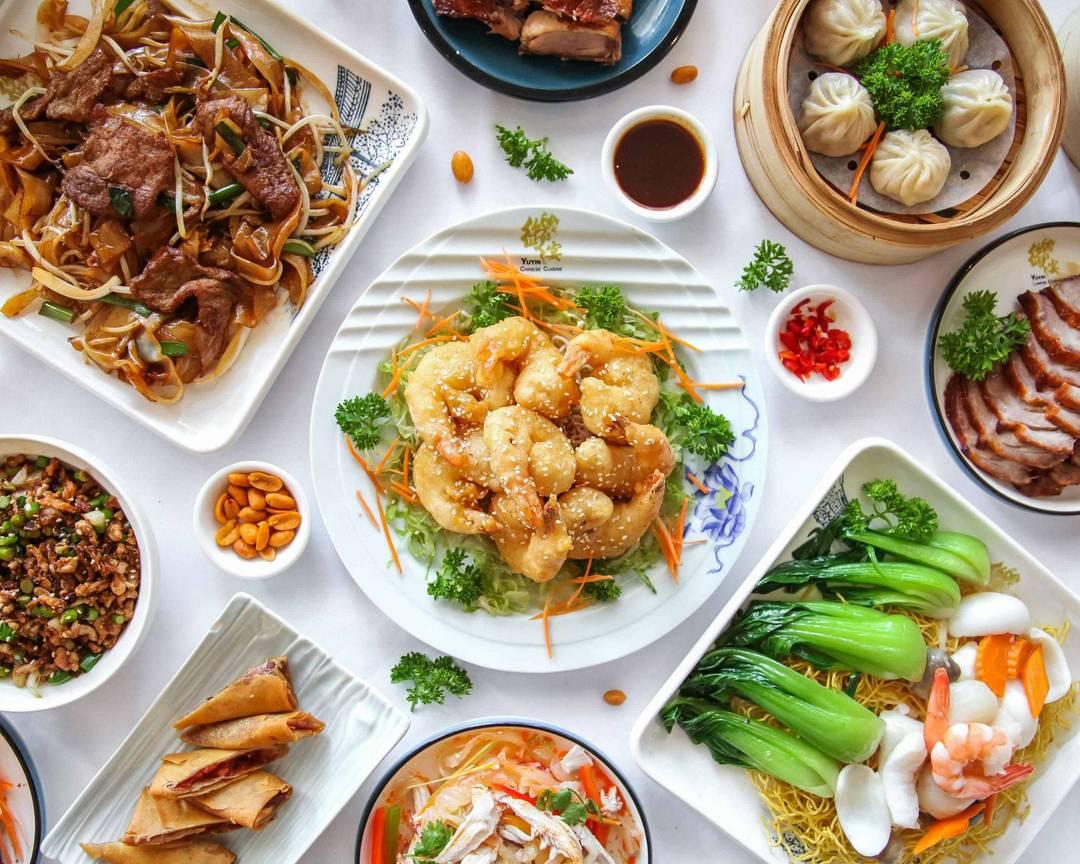Braised Crucian Carp: (311, 206, 739, 659), (7, 6, 425, 445), (640, 460, 1080, 864), (40, 594, 406, 860), (733, 4, 1061, 266), (0, 435, 160, 711), (924, 226, 1077, 507), (351, 718, 645, 860)
